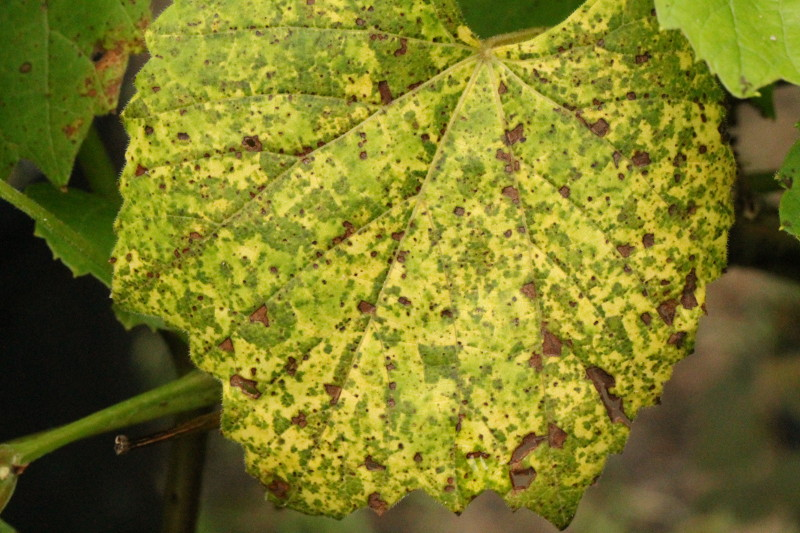downy: (229, 13, 644, 428), (124, 229, 220, 325), (125, 122, 220, 217), (651, 148, 734, 231), (423, 433, 499, 509), (245, 432, 320, 507), (508, 432, 583, 507), (334, 436, 407, 509), (149, 29, 221, 101), (648, 70, 716, 138), (649, 249, 710, 310), (651, 317, 693, 359)
